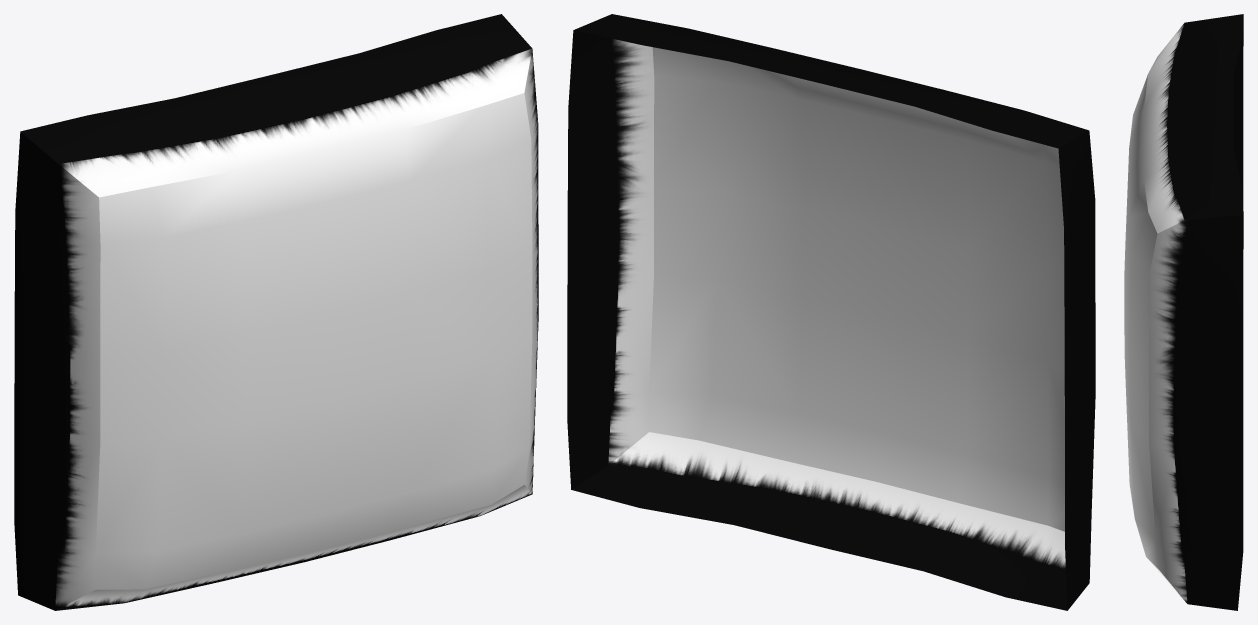
The model's file is VFX_TvScreen.fbx.
3 views of the same model, side by side, from view 1: azimuth 30°, elevation 25°; view 2: azimuth 150°, elevation 25°; view 3: azimuth 270°, elevation 25° (orthographic). The views are drawn at different scales.
Visible parts, largest first — view 1: TvScreen; view 2: TvScreen; view 3: TvScreen.
Part boxes in pixels (x1,y1,x2,y2): TvScreen: [14, 14, 538, 610]; TvScreen: [567, 14, 1095, 610]; TvScreen: [1124, 14, 1243, 610].
Size of the model in its own units: 58.02 by 52.34 by 14.21.
